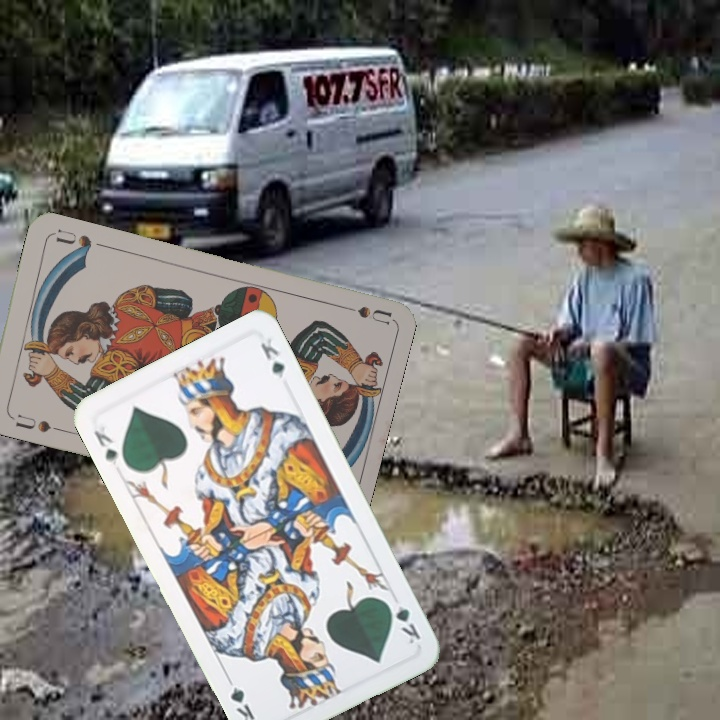GK: (381, 596, 424, 646), (90, 421, 120, 468)
SU: (333, 300, 392, 327), (11, 410, 54, 435)
